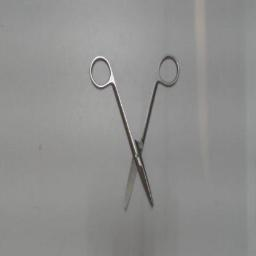Curved Mayo Scissors: (86, 48, 184, 218)
